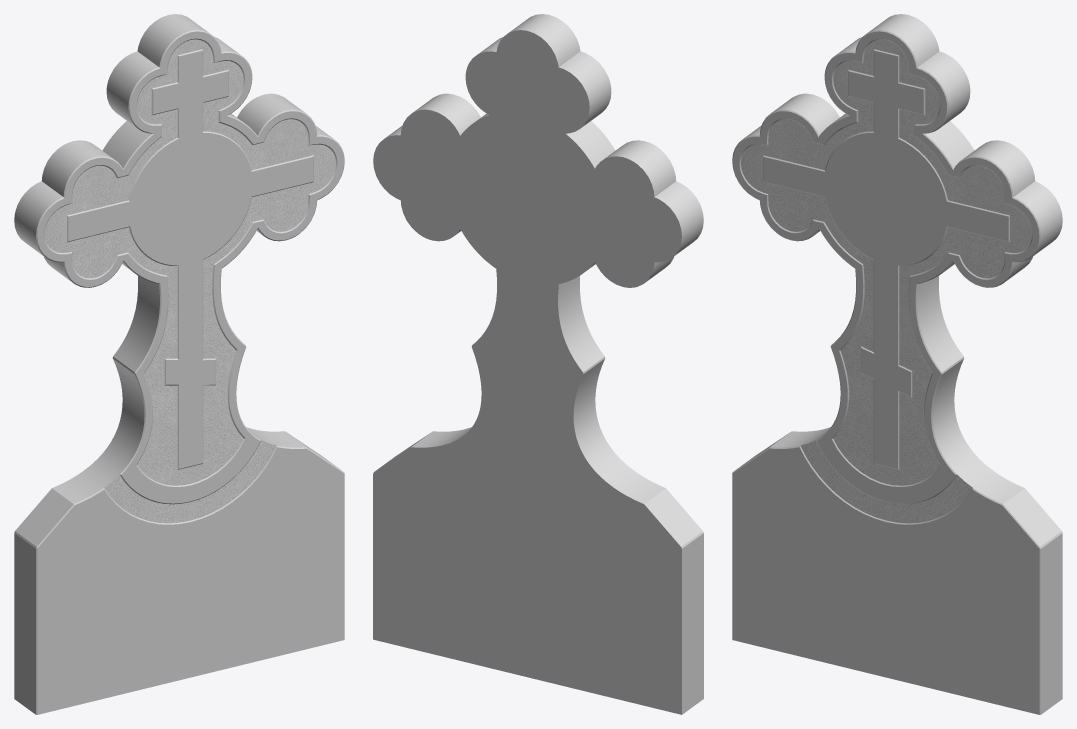
Rendered from cn90ed014a0e_tkf.glb.
The picture shows the model from 3 angles, left to right: view 1: azimuth 30°, elevation 25°; view 2: azimuth 150°, elevation 25°; view 3: azimuth 330°, elevation 25°; orthographic projection.
Visible parts, largest first — view 1: Pam-k-034, Pam-k-034_2_notexture; view 2: Pam-k-034; view 3: Pam-k-034, Pam-k-034_2_notexture.
Part boxes in pixels (x1,y1,x2,y2): Pam-k-034: (14, 14, 344, 714); Pam-k-034_2_notexture: (44, 39, 335, 523); Pam-k-034: (373, 14, 703, 714); Pam-k-034: (732, 14, 1062, 714); Pam-k-034_2_notexture: (741, 39, 1032, 523).
Bounding box in the file's own units: 0.4 × 0.8 × 0.05.
1 material, 1 textured.
